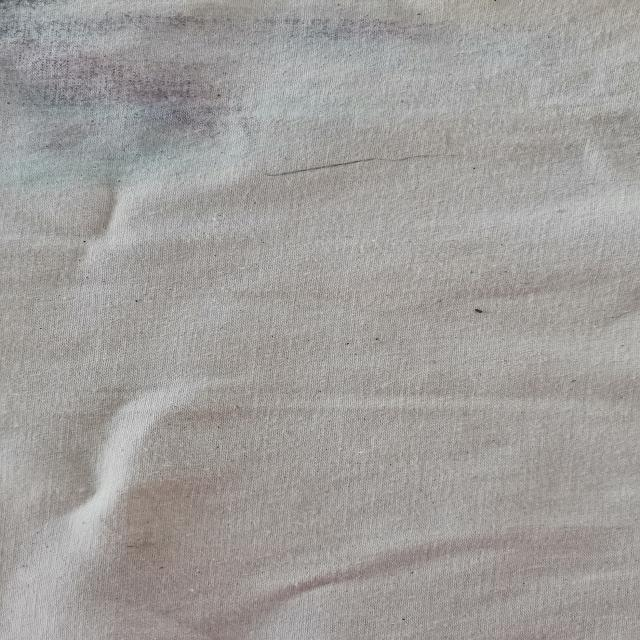taaaches: (14, 2, 499, 188)
